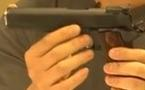gun: (1, 1, 145, 90)
